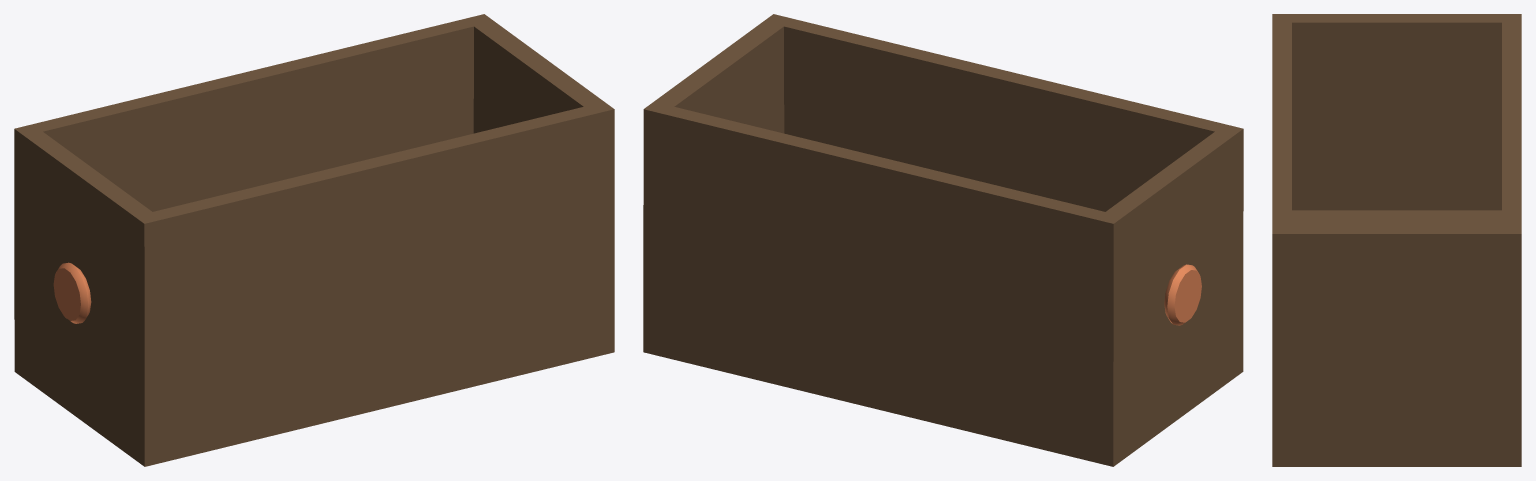
Rendered from caja.fbx.
3 views of the same model, side by side, from view 1: azimuth 30°, elevation 25°; view 2: azimuth 150°, elevation 25°; view 3: azimuth 270°, elevation 25° (orthographic). The views are drawn at different scales.
Parts seen in each view (by area): view 1: Cajon_Libre; view 2: Cajon_Libre; view 3: Cajon_Libre.
Part boxes in pixels (x1,y1,x2,y2): Cajon_Libre: (14,14,614,466); Cajon_Libre: (643,14,1243,466); Cajon_Libre: (1272,14,1521,466).
Size of the model in its own units: 55.44 by 26.77 by 25.96.
